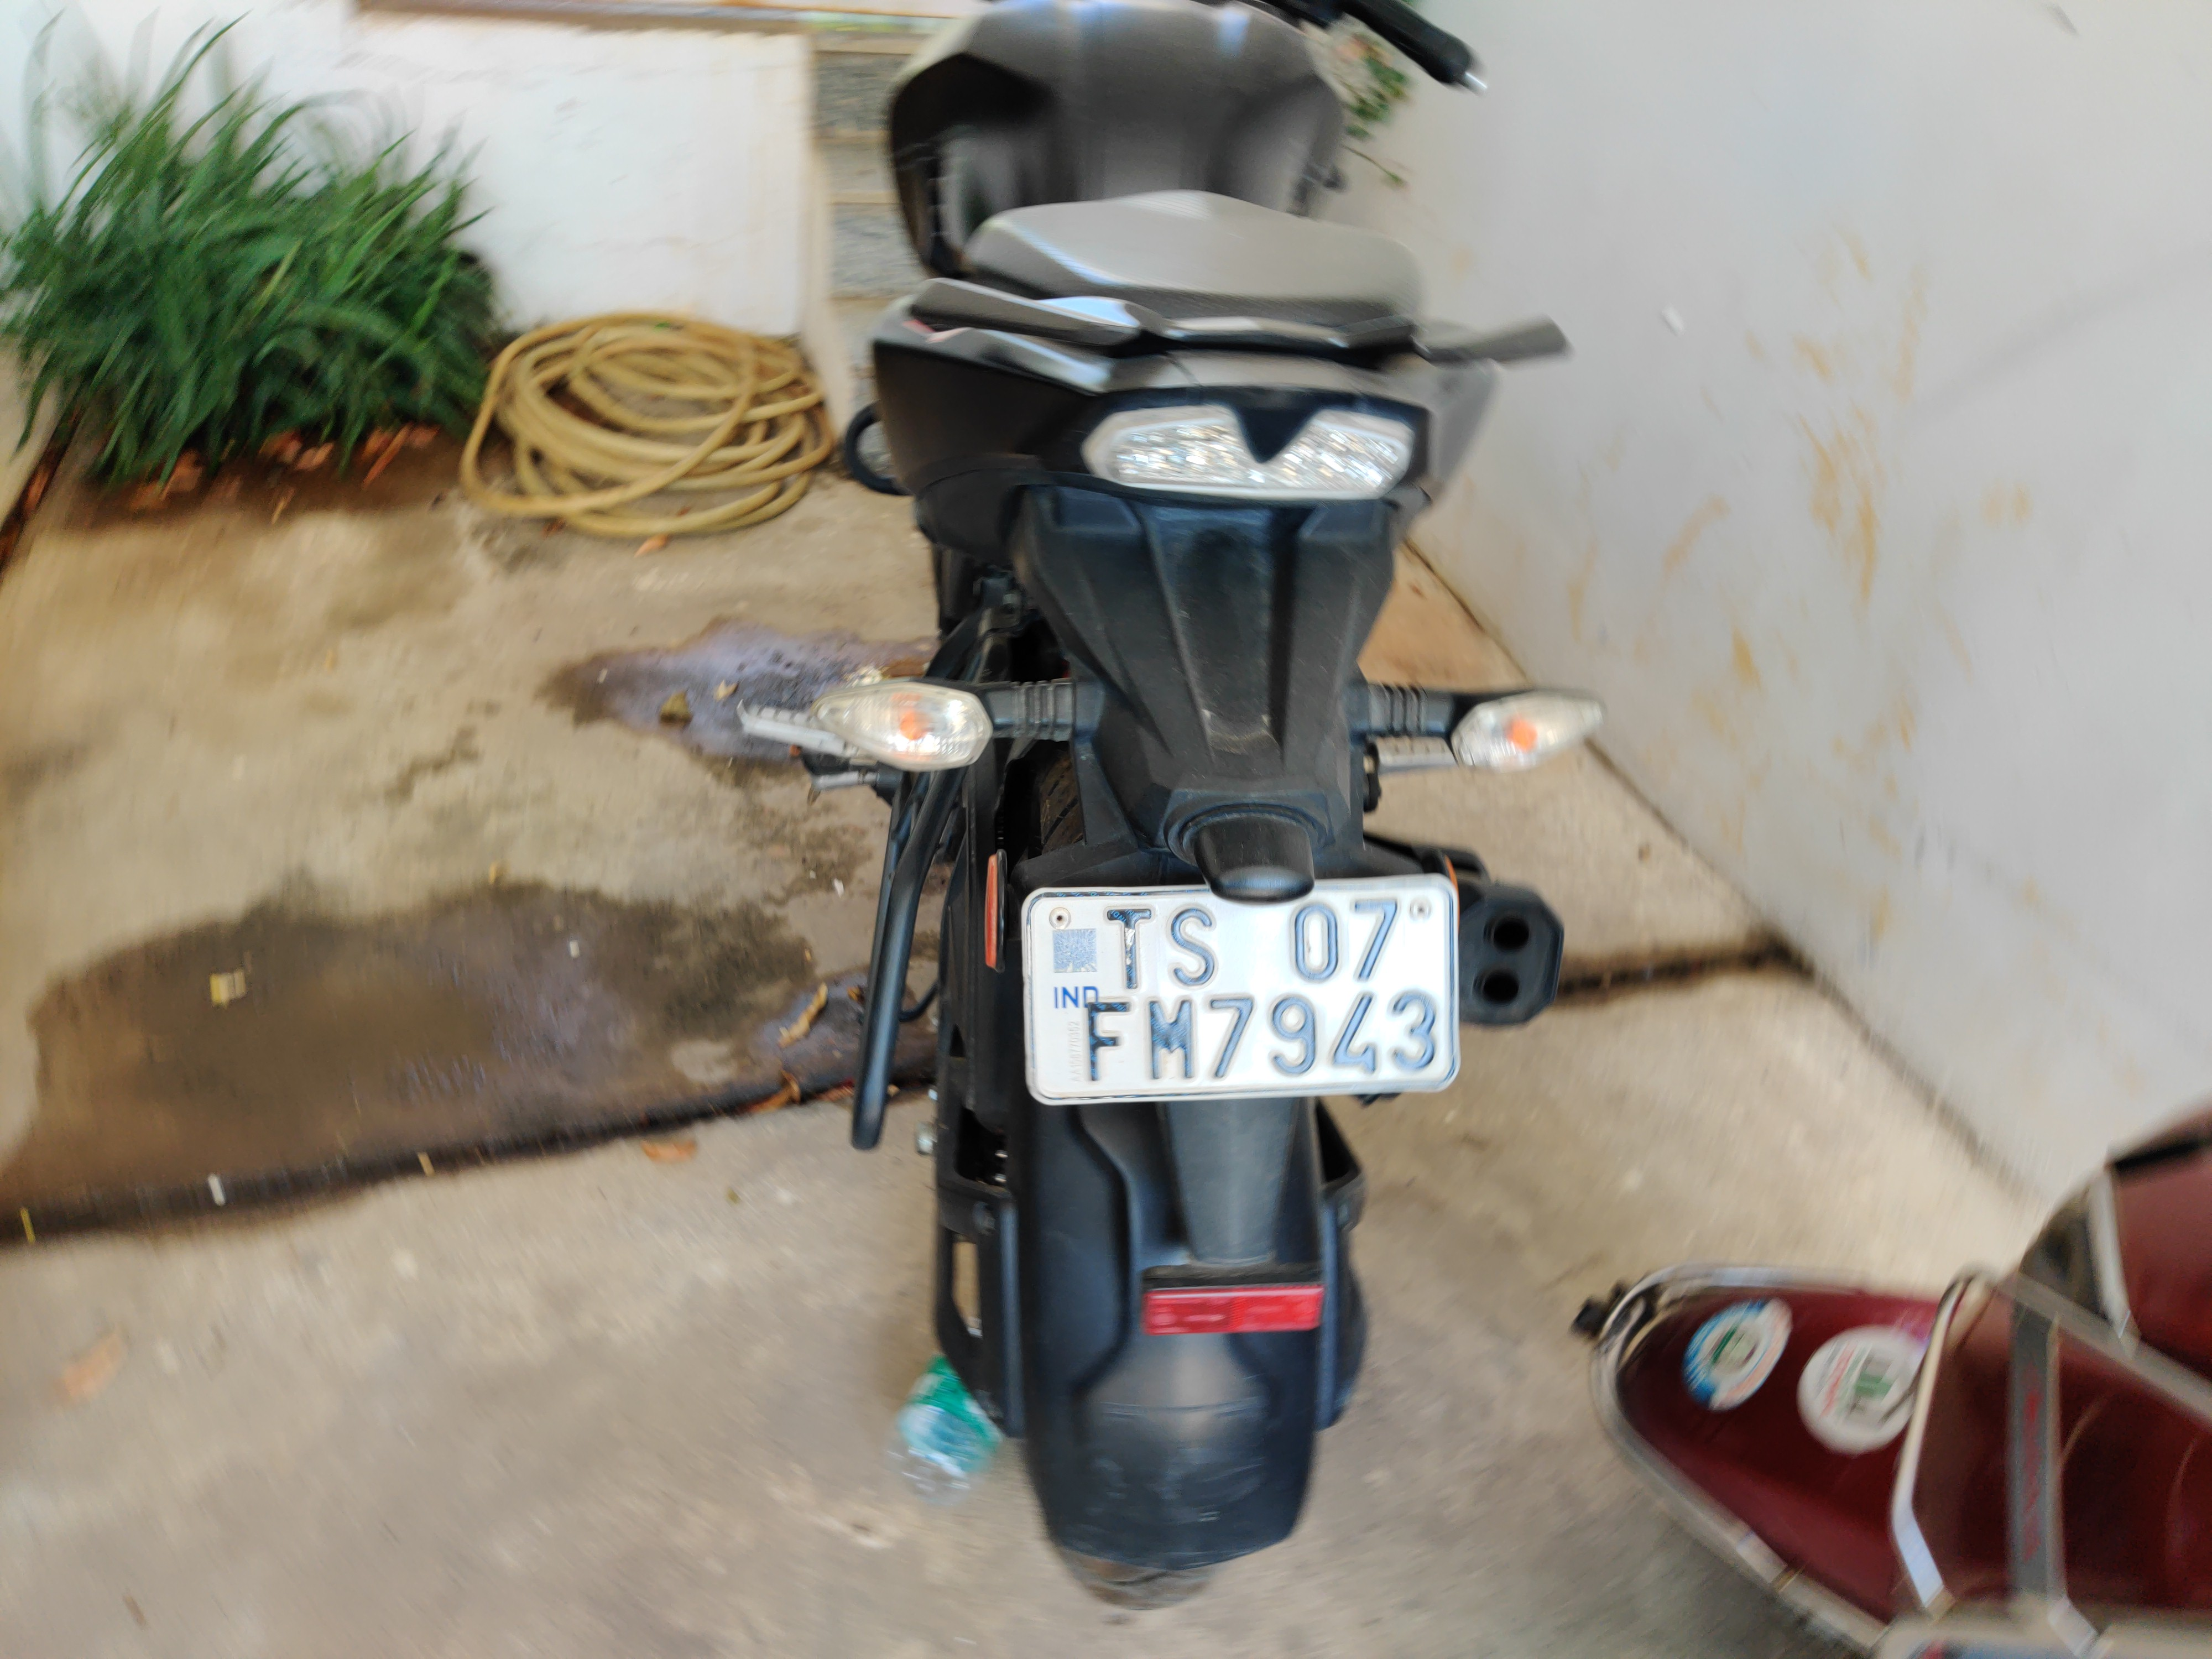plate: (1009, 864, 1475, 1121)
